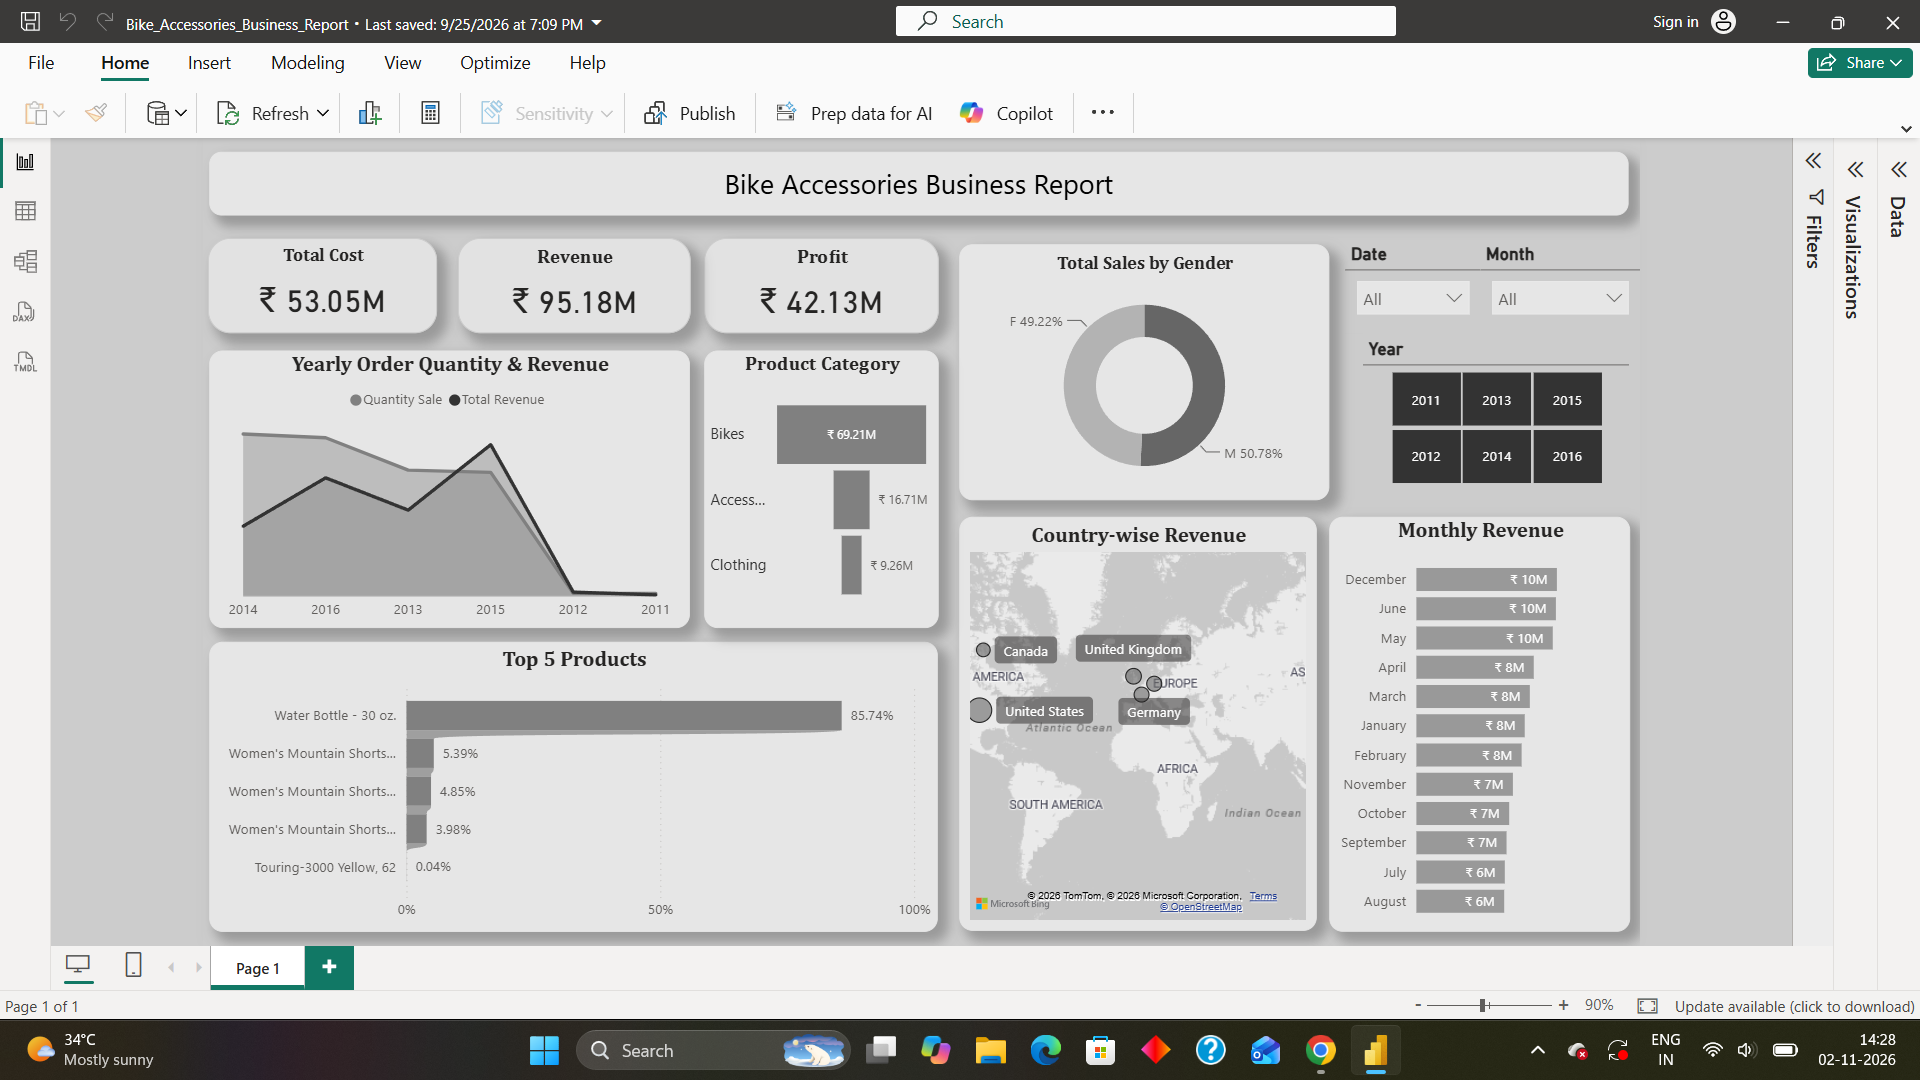

This screenshot's page, from the dashboard's own definition file:
{"tool":"powerbi","page":{"name":"Page 1","canvas":[1280,720],"ordinal":0},"visuals":[{"type":"card","title":"Profit","fields":{"Values":["Sum(Sales.Profit%)"]},"box":[446.4,89.3,208.7,84.5],"z":0},{"type":"card","title":"Total Cost","fields":{"Values":["Sum(Sales.Total Cost)"]},"box":[4.8,89.3,203.9,84.5],"z":1000},{"type":"card","title":"Revenue","fields":{"Values":["Sum(Sales.Total Price)"]},"box":[226.8,89.3,207.5,84.5],"z":2000},{"type":"slicer","title":"Date","fields":{"Values":["Sales.Day"]},"box":[1017.4,89.1,120.2,84.6],"z":3000},{"type":"slicer","title":"Month","fields":{"Values":["Sales.Month"]},"box":[1137.7,89.3,142.4,85.7],"z":4000},{"type":"slicer","title":"Year","fields":{"Values":["Sales.Year"]},"box":[1033.2,173.6,236.6,139.6],"z":5000},{"type":"areaChart","title":"Yearly Order Quantity & Revenue","fields":{"Category":["Sales.Year"],"Y":["Sum(Sales.Order_Quantity)"],"Y2":["Sum(Sales.Total Price)"]},"box":[6,189.4,428.3,247.3],"z":6000},{"type":"barChart","title":"Top 5 Products","fields":{"Category":["Sales.Product"],"Y":["Sum(Sales.Order_Quantity)"]},"box":[6,448.8,649.1,258.2],"z":7000},{"type":"donutChart","title":"Total Sales by Gender","fields":{"Category":["Sales.Customer_Gender"],"Y":["Sum(Sales.Total Price)"]},"box":[673.2,94.1,329.4,228],"z":8000},{"type":"map","title":"Country-wise Revenue","fields":{"Category":["Sales.Country"],"Size":["Sum(Sales.Total Price)"]},"box":[673.2,337.8,318.5,369.2],"z":9000},{"type":"clusteredBarChart","title":"Monthly Revenue","fields":{"Category":["Sales.Month"],"Y":["Sum(Sales.Total Price)"]},"box":[1002.6,337.4,267.8,369.8],"z":10000},{"type":"shape","title":"B","box":[6,12.1,1264.3,56.7],"z":11000},{"type":"funnel","title":"Product Category","fields":{"Category":["Sales.Product_Category"],"Y":["Sum(Sales.Total Price)"]},"box":[446,189,209,247],"z":12000}]}

Visuals, with their boxes on the page's 1280x720 design canvas (x1, y1, x2, y2). These are canvas units, not pixel positions in the 1920x1080 screenshot, which may show the page scaled, cropped or inside an application window:
"Profit" card: bbox=[446, 89, 655, 174]
"Total Cost" card: bbox=[5, 89, 209, 174]
"Revenue" card: bbox=[227, 89, 434, 174]
"Date" slicer: bbox=[1017, 89, 1138, 174]
"Month" slicer: bbox=[1138, 89, 1280, 175]
"Year" slicer: bbox=[1033, 174, 1270, 313]
"Yearly Order Quantity & Revenue" areaChart: bbox=[6, 189, 434, 437]
"Top 5 Products" barChart: bbox=[6, 449, 655, 707]
"Total Sales by Gender" donutChart: bbox=[673, 94, 1003, 322]
"Country-wise Revenue" map: bbox=[673, 338, 992, 707]
"Monthly Revenue" clusteredBarChart: bbox=[1003, 337, 1270, 707]
"B" shape: bbox=[6, 12, 1270, 69]
"Product Category" funnel: bbox=[446, 189, 655, 436]
